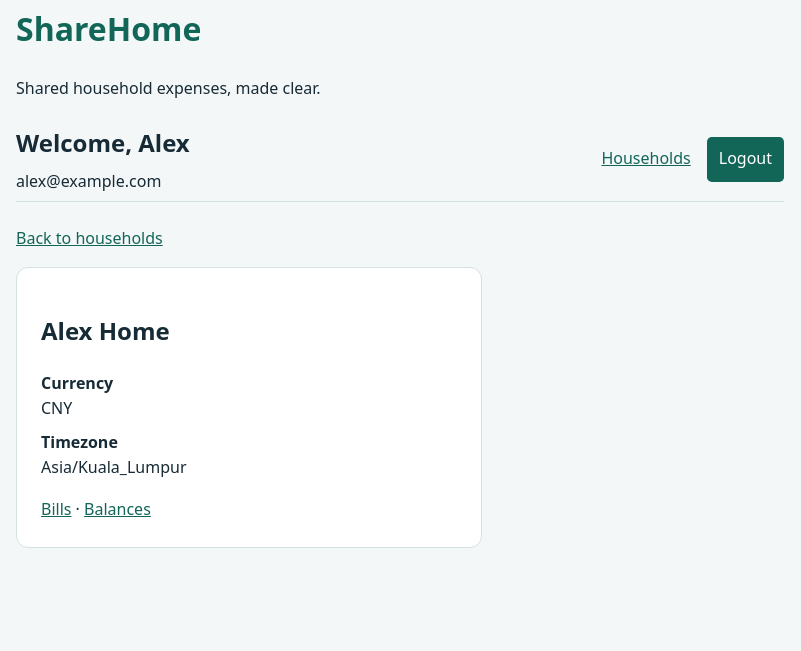
keeps Bills navigation and opens Balances from Household detail
Click the link "Balances".
click(118, 509)  # box [84,498,151,520]
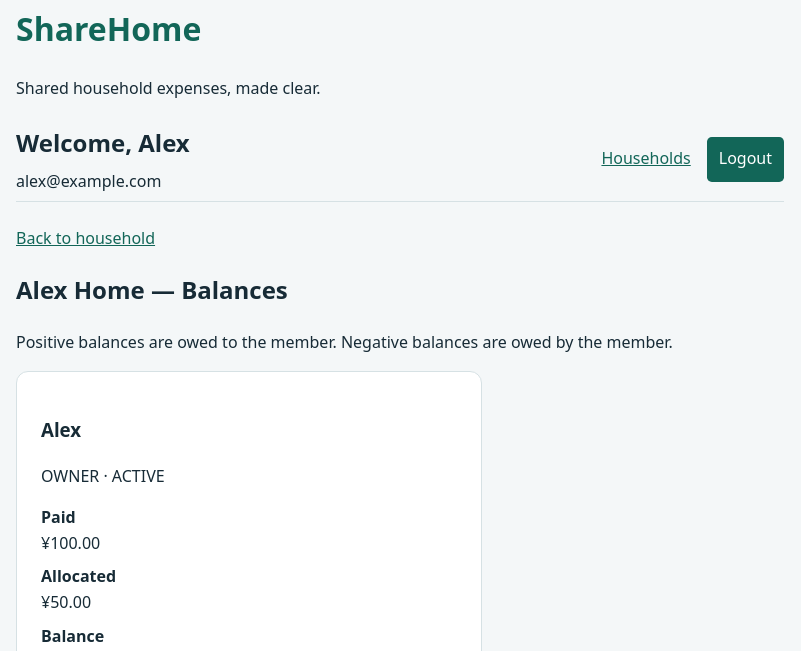
Now the heading "Alex Home — Balances" is shown, box [16,273,288,306]
